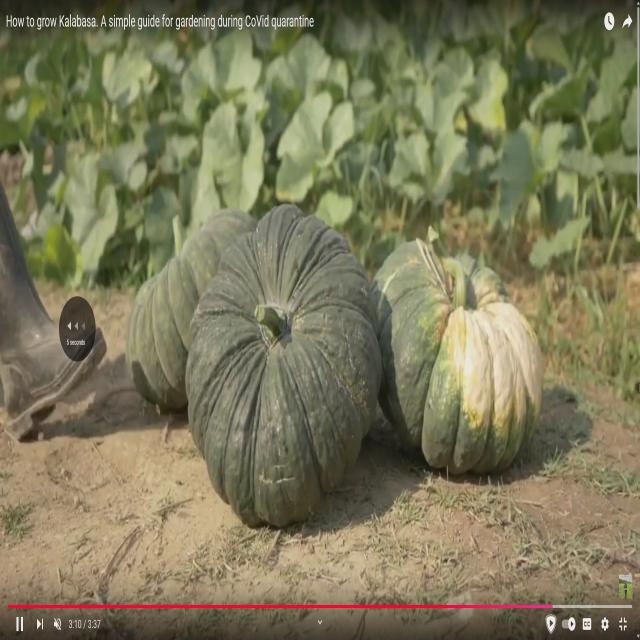squash: (181, 202, 384, 532), (371, 222, 544, 474), (123, 209, 257, 412)
